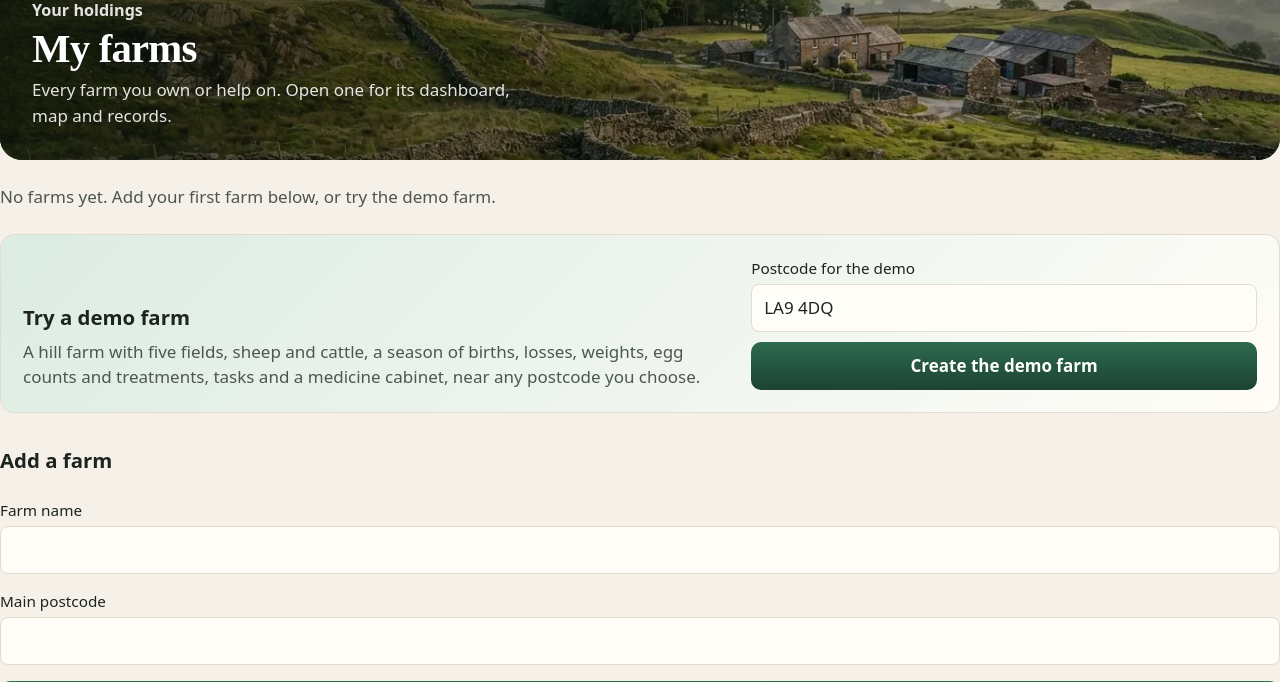
Test: FarmsPage (FR-2.1) › creates a farm and shows it
Expected: the text "No farms yet" is shown, [0,185,496,208]
Step 1. Type "Hill Farm" into the field labelled "Farm name" → (640, 550), box [0,526,1279,574]
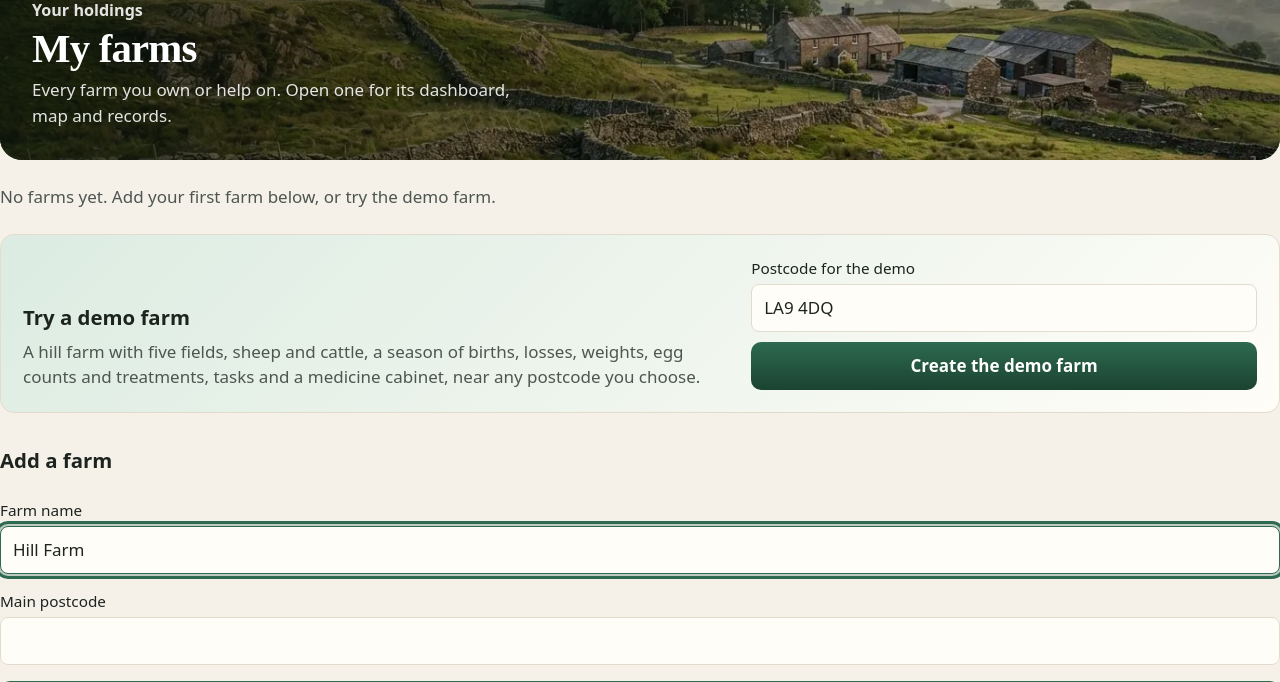
Step 2. Type "ub8 3ph" into the field labelled "Main postcode" → (640, 641), box [0,617,1279,665]
(page scrolled)
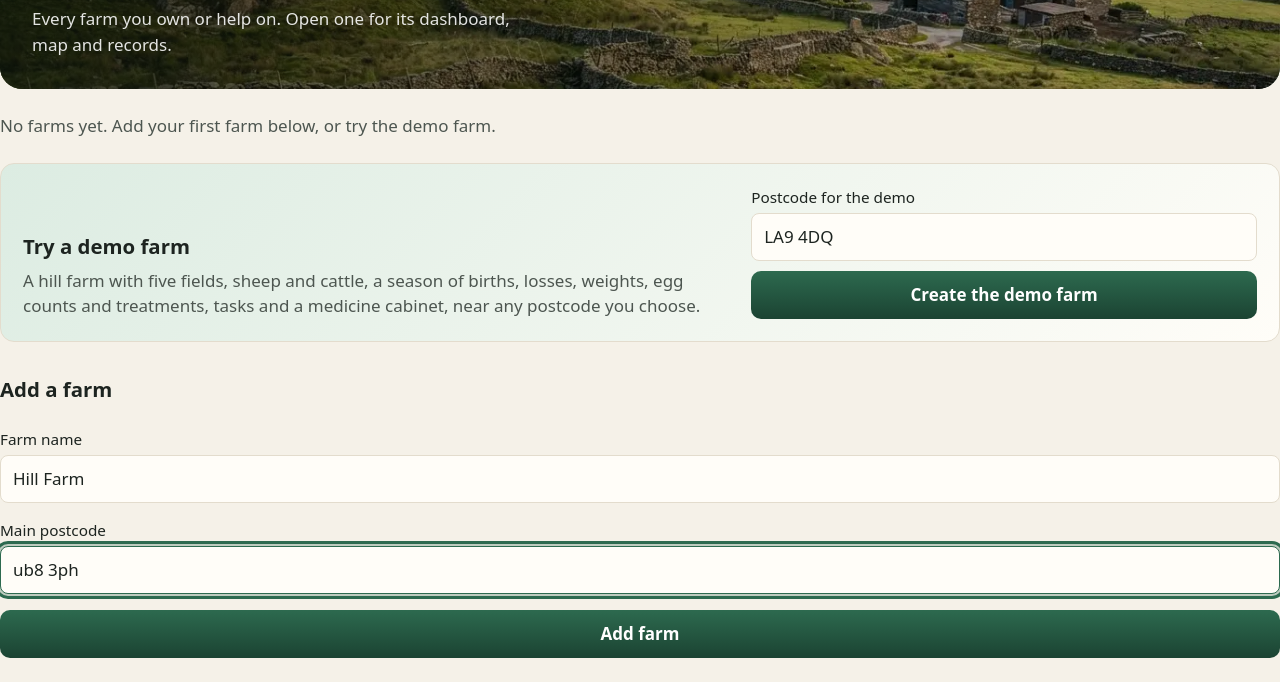
Step 3. Click the button "Add farm" → (640, 634), box [0,610,1279,658]
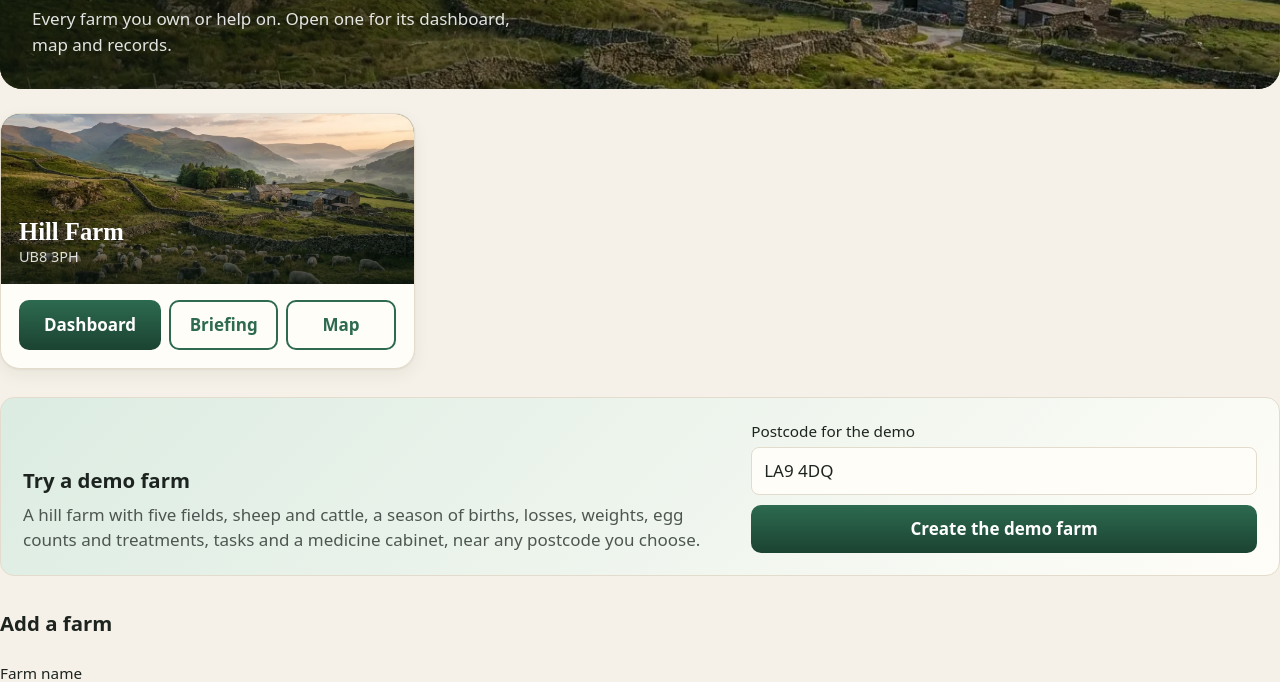
Now the link "Hill Farm UB8 3PH" is shown, box [1,114,414,284]
